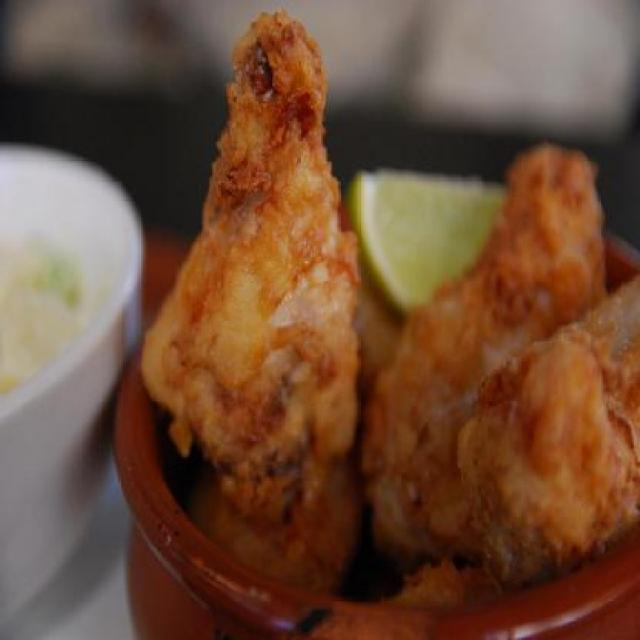Deep fried chicken wing: (138, 45, 630, 582)
